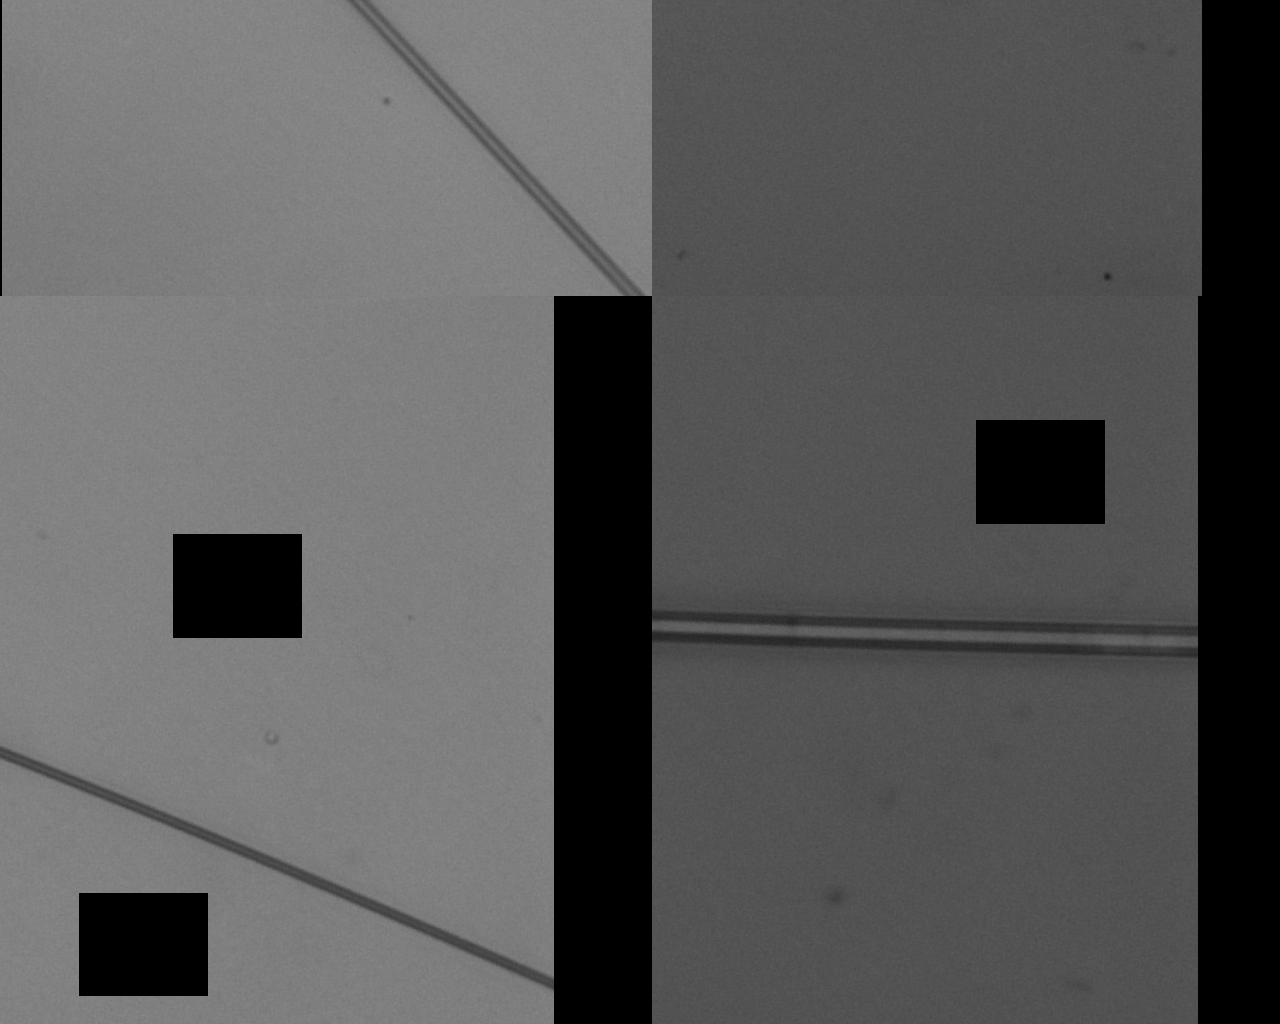fiber: (0, 751, 554, 993), (347, 0, 647, 296), (652, 608, 1198, 654)
